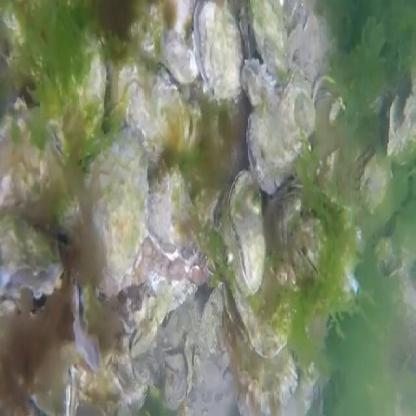Oyster- Indeterminate: (104, 49, 198, 172), (246, 80, 317, 195), (226, 169, 267, 296), (193, 0, 242, 104), (30, 347, 78, 416), (71, 273, 100, 371), (242, 57, 275, 106)
Oyster-Closed: (85, 133, 148, 294), (227, 315, 297, 413), (248, 0, 289, 76), (359, 151, 391, 213), (163, 42, 197, 84)
Oyster-Open: (221, 223, 295, 355), (0, 215, 63, 299), (146, 164, 196, 259), (385, 60, 416, 163)
